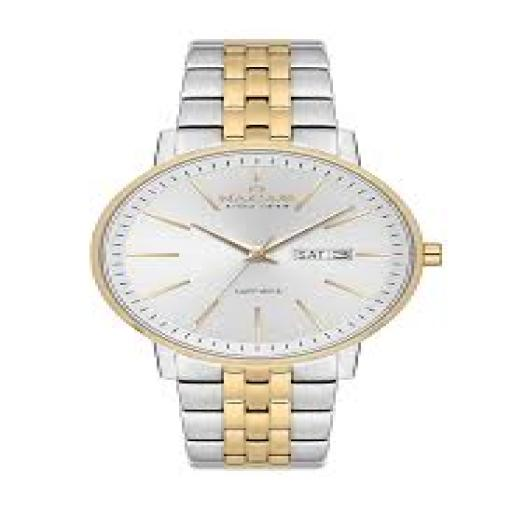KolSaati: (77, 18, 465, 496)
